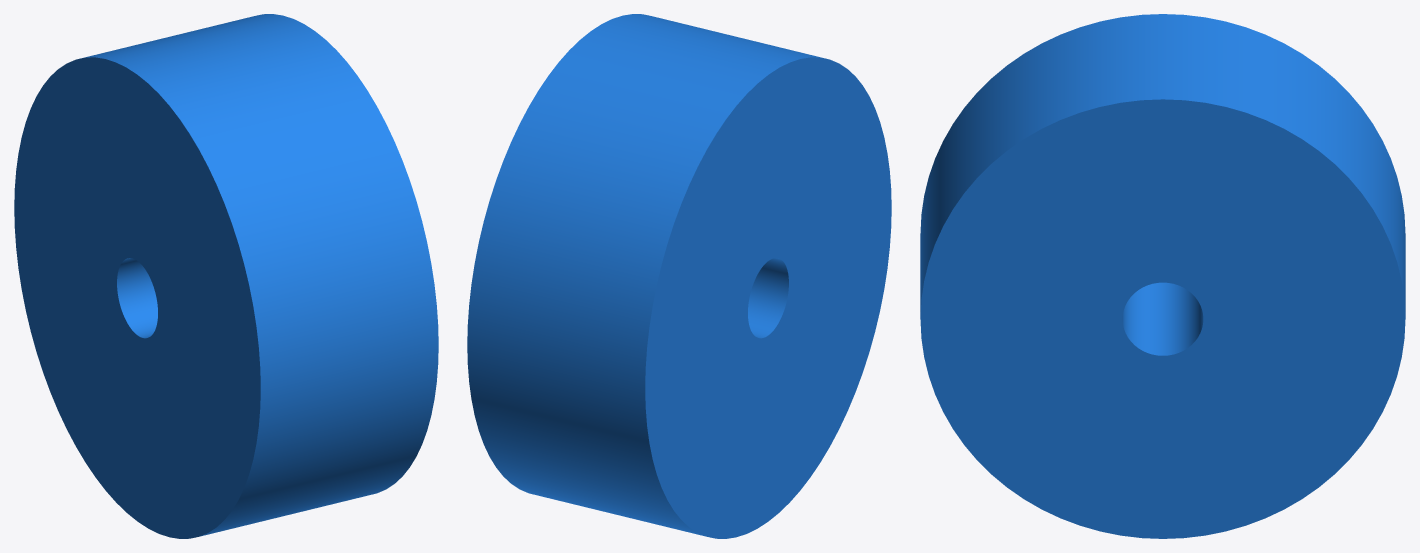
File: bs2102-3-side-cap-blue-2mm-5b5b2c8c42a7.glb
3 views of the same model, side by side, from view 1: azimuth 30°, elevation 25°; view 2: azimuth 150°, elevation 25°; view 3: azimuth 270°, elevation 25° (orthographic).
Parts seen in each view (by area): view 1: Side_Cap_BS2102_3_Blue_2mm_Functional_Geometry; view 2: Side_Cap_BS2102_3_Blue_2mm_Functional_Geometry; view 3: Side_Cap_BS2102_3_Blue_2mm_Functional_Geometry.
Part boxes in pixels (x1,y1,x2,y2): Side_Cap_BS2102_3_Blue_2mm_Functional_Geometry: (14,14,438,538); Side_Cap_BS2102_3_Blue_2mm_Functional_Geometry: (467,14,891,538); Side_Cap_BS2102_3_Blue_2mm_Functional_Geometry: (920,14,1405,538).
Size of the model in its own units: 0.005 by 0.012 by 0.012.
